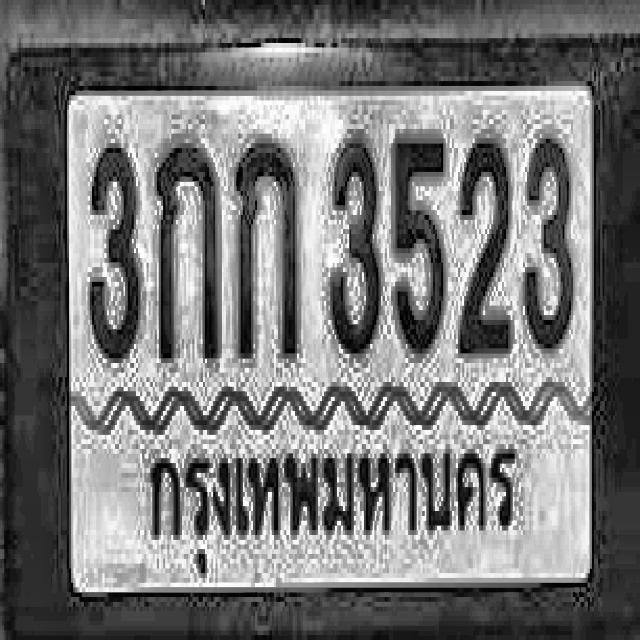license-plate: (10, 38, 640, 635)
